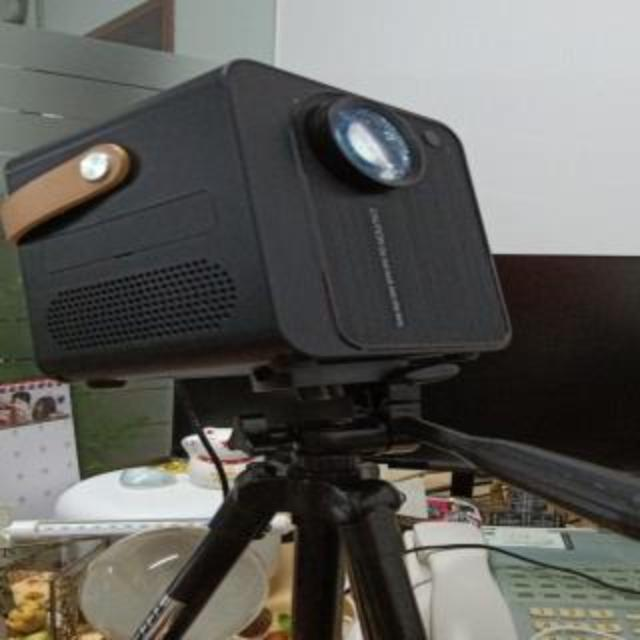Projector: (2, 58, 516, 408)
